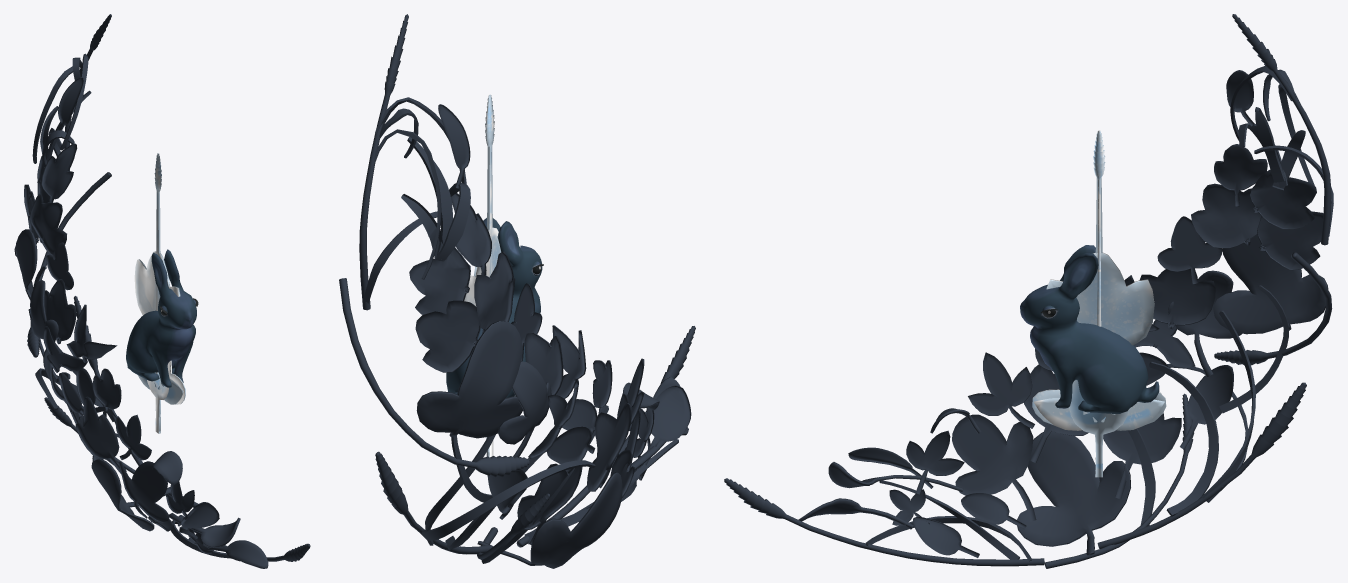
3 renders of one model, left to right at view 1: azimuth 30°, elevation 25°; view 2: azimuth 150°, elevation 25°; view 3: azimuth 270°, elevation 25°, orthographic. The views are drawn at different scales.
Visible parts, largest first — view 1: pointy_fat_leaf_GEO (×5), round_leaf_GEO (×5), Schinako_Bunny:body_GEO, single_leaf_GEO (×7), pointy_thin_leaf_GEO (×4), reed_stalk_GEO (×5), reed_leaf_GEO (×3), pointy_fat_leaf:pointy_fat_leaf_GEO, single_leaf:single_leaf_GEO, reed_stalk:reed_stalk_GEO, pointy_thin_leaf:pointy_thin_leaf_GEO; view 2: pointy_fat_leaf_GEO (×8), round_leaf_GEO (×5), reed_leaf_GEO (×12), reed_stalk_GEO (×5), single_leaf_GEO (×6), pointy_thin_leaf_GEO (×4), Schinako_Bunny:body_GEO, pointy_fat_leaf:pointy_fat_leaf_GEO, reed_stalk:reed_stalk_GEO; view 3: round_leaf_GEO (×5), pointy_fat_leaf_GEO (×7), Schinako_Bunny:body_GEO, reed_stalk_GEO (×5), single_leaf_GEO (×7), reed_leaf_GEO (×7), pointy_thin_leaf_GEO (×4), pointy_fat_leaf:pointy_fat_leaf_GEO, pointy_thin_leaf:pointy_thin_leaf_GEO, single_leaf:single_leaf_GEO, reed_stalk:reed_stalk_GEO.
Boxes of the visible parts, x1,y1,x2,y2 form: pointy_fat_leaf_GEO (×5): (29, 143, 130, 478); round_leaf_GEO (×5): (14, 229, 170, 531); Schinako_Bunny:body_GEO: (126, 249, 196, 387); single_leaf_GEO (×7): (57, 77, 268, 568); pointy_thin_leaf_GEO (×4): (43, 304, 194, 516); reed_stalk_GEO (×5): (27, 14, 310, 561); reed_leaf_GEO (×3): (32, 53, 102, 409); pointy_fat_leaf:pointy_fat_leaf_GEO: (134, 251, 180, 374); single_leaf:single_leaf_GEO: (147, 360, 171, 433); reed_stalk:reed_stalk_GEO: (154, 153, 161, 373); pointy_thin_leaf:pointy_thin_leaf_GEO: (138, 375, 183, 431); pointy_fat_leaf_GEO (×8): (409, 193, 632, 545); round_leaf_GEO (×5): (416, 283, 640, 568); reed_leaf_GEO (×12): (362, 97, 608, 563); reed_stalk_GEO (×5): (339, 14, 695, 559); single_leaf_GEO (×6): (438, 104, 691, 519); pointy_thin_leaf_GEO (×4): (528, 325, 654, 458); Schinako_Bunny:body_GEO: (446, 218, 542, 397); pointy_fat_leaf:pointy_fat_leaf_GEO: (464, 227, 520, 306); reed_stalk:reed_stalk_GEO: (485, 94, 494, 273); round_leaf_GEO (×5): (952, 216, 1328, 556); pointy_fat_leaf_GEO (×7): (1024, 144, 1323, 499); Schinako_Bunny:body_GEO: (1020, 245, 1159, 413); reed_stalk_GEO (×5): (724, 14, 1332, 568); single_leaf_GEO (×7): (798, 70, 1254, 557); reed_leaf_GEO (×7): (865, 107, 1288, 561); pointy_thin_leaf_GEO (×4): (889, 320, 1195, 525); pointy_fat_leaf:pointy_fat_leaf_GEO: (1046, 252, 1154, 345); pointy_thin_leaf:pointy_thin_leaf_GEO: (1034, 398, 1164, 473); single_leaf:single_leaf_GEO: (1069, 380, 1128, 477); reed_stalk:reed_stalk_GEO: (1093, 130, 1105, 326).
Size of the model in its own units: 6.08 by 21.22 by 21.02.
7 materials, 6 textured.
